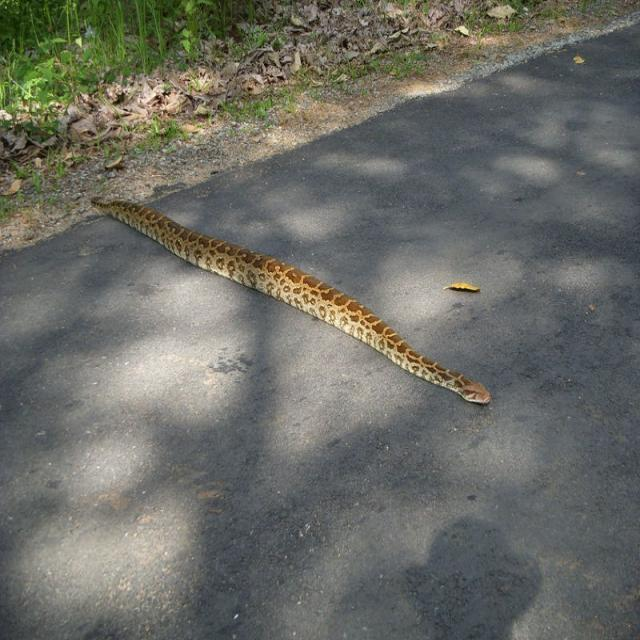Snake: (81, 166, 494, 418)
